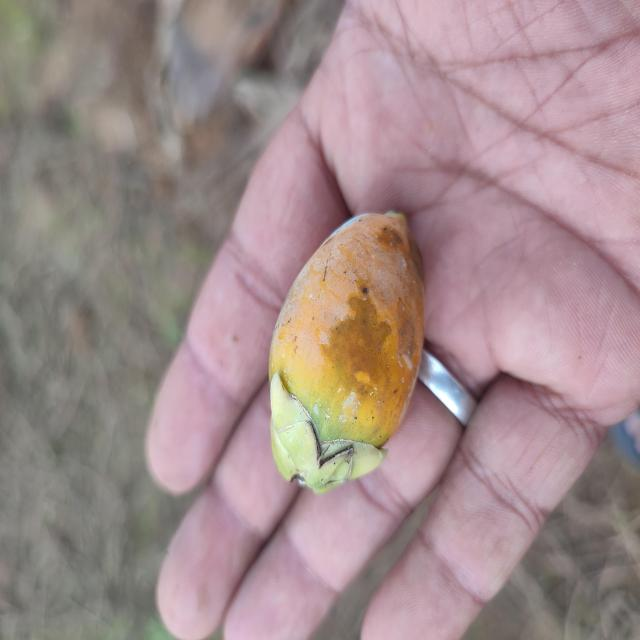good: (267, 212, 426, 496)
